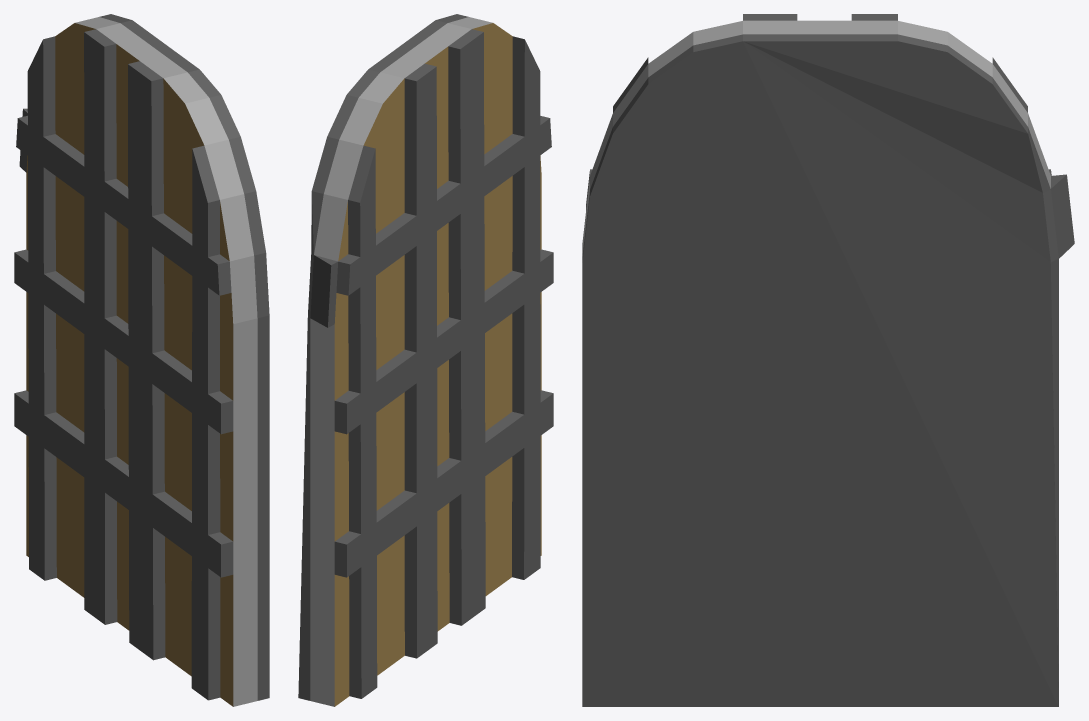
Rendered from door.fbx.
3 renders of one model, left to right at view 1: azimuth 30°, elevation 25°; view 2: azimuth 150°, elevation 25°; view 3: azimuth 270°, elevation 25°, orthographic. The views are drawn at different scales.
Visible parts, largest first — view 1: pCube1; view 2: pCube1; view 3: pCube1.
Boxes of the visible parts, x1,y1,x2,y2 form: pCube1: [14, 14, 269, 706]; pCube1: [298, 14, 553, 706]; pCube1: [582, 14, 1074, 706].
Size of the model in its own units: 1.99 by 22.7 by 15.22.
